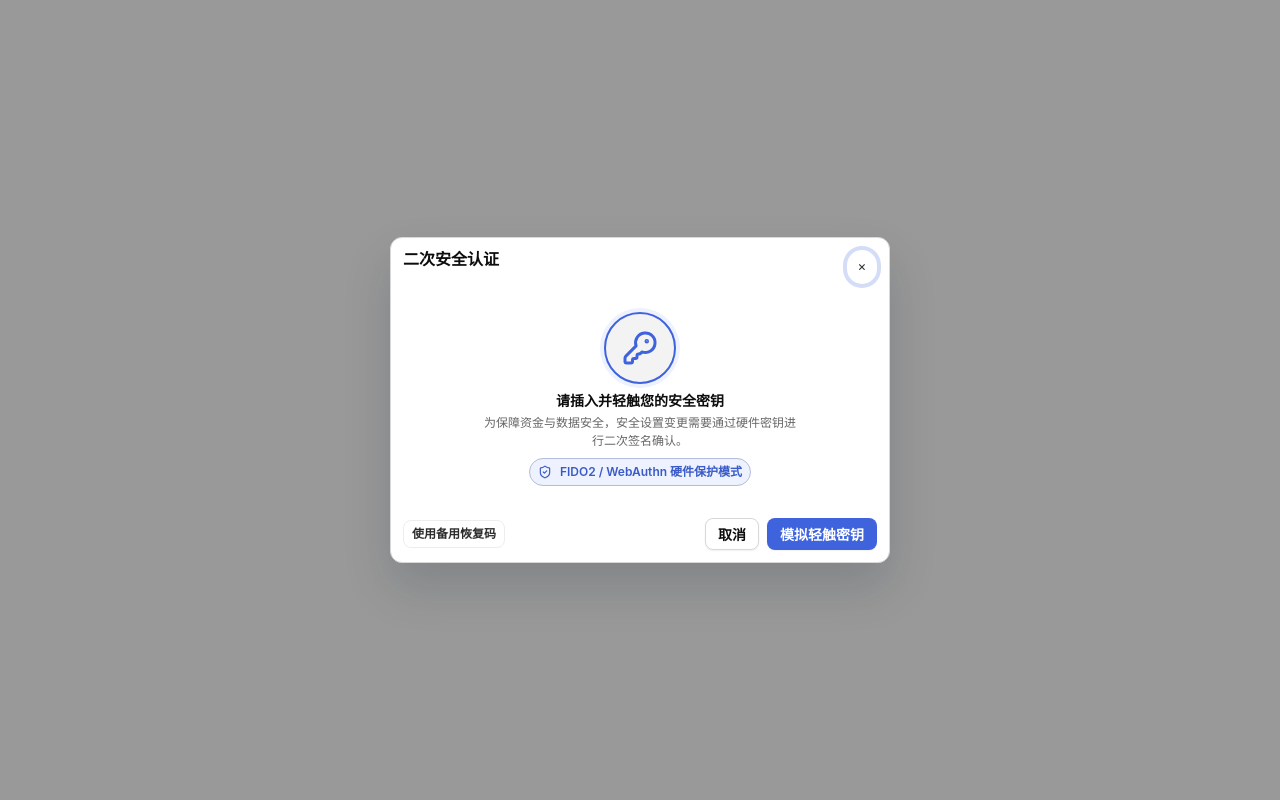
Test: StepUpSecurityModal › supports switching to backup code mode and validating codes
Click the button "使用备用恢复码": x=454, y=534 [403,520,505,548]
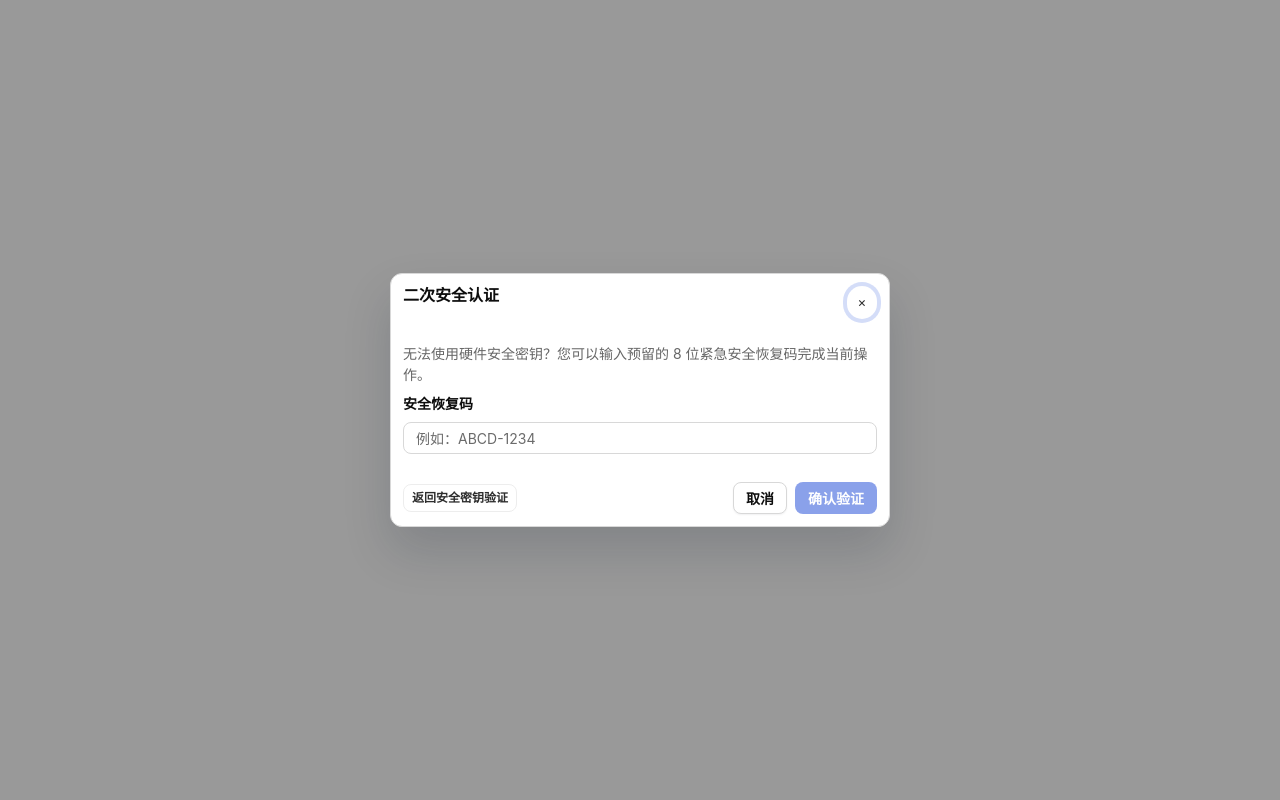
Expected: the text "无法使用硬件安全密钥？" is shown, [403,346,868,384]
Expected: the button with test id "stepup-submit-backup" is disabled, [795,482,877,514]
Type a code that is too short
In the field labelled "安全恢复码": x=640, y=438 [403,422,877,454], type "123"
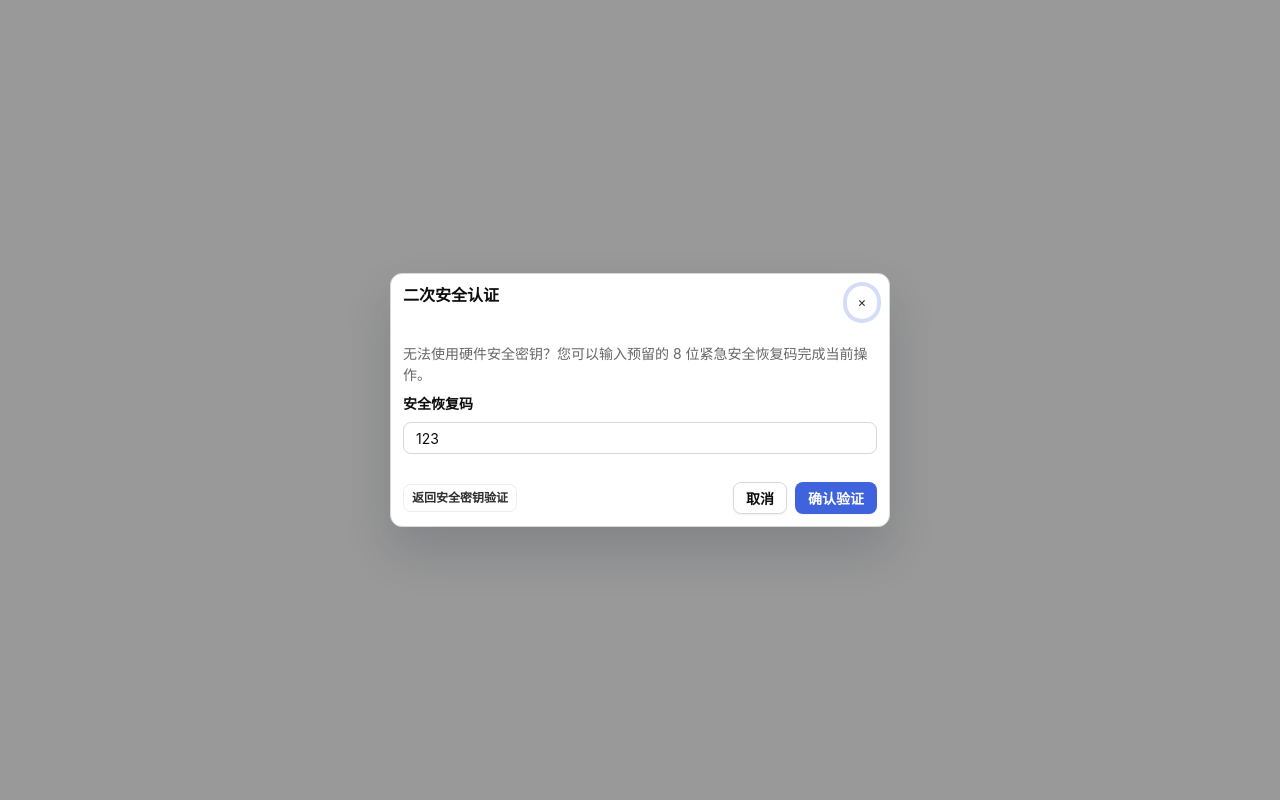
Click the button with test id "stepup-submit-backup": x=836, y=498 [795,482,877,514]
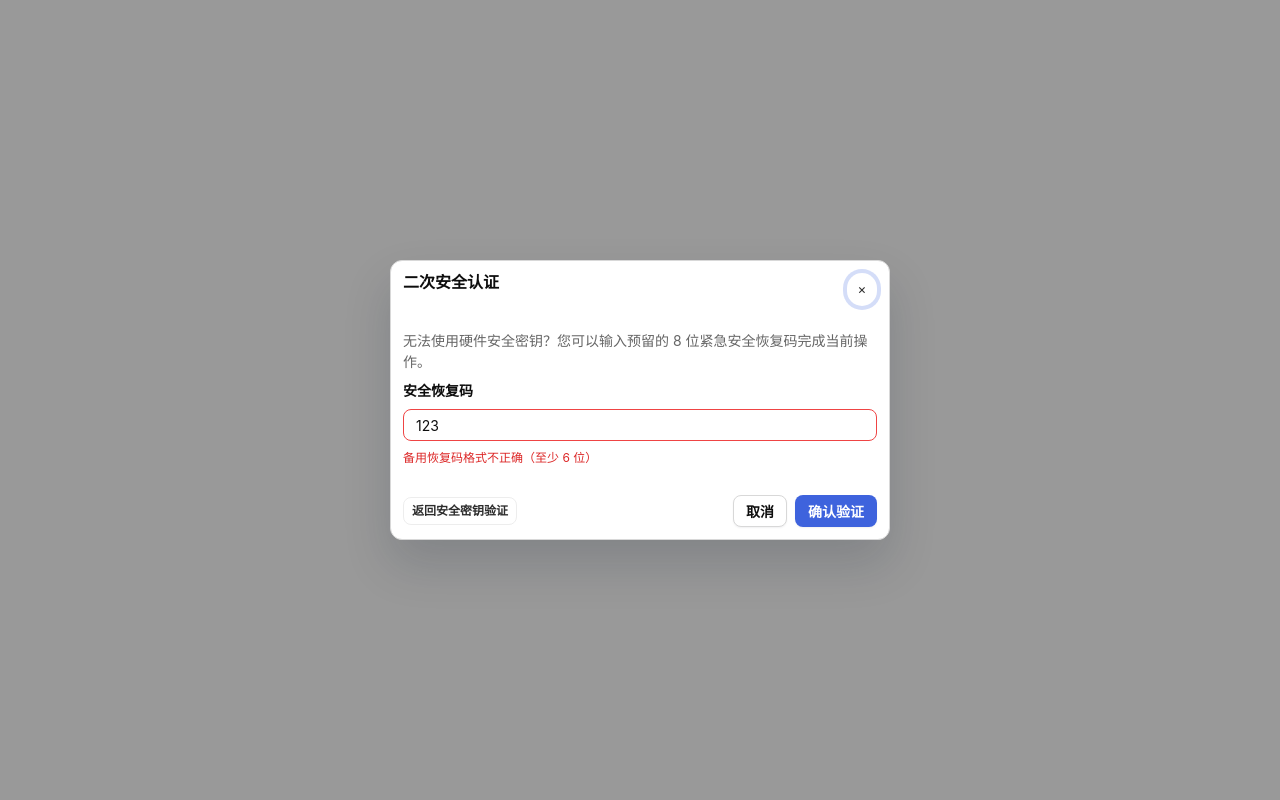
Expected: the text "备用恢复码格式不正确" is shown, [403,450,597,466]
Enter a valid backup code
Replace the text in the field labelled "安全恢复码" with "RECOV-987654": x=640, y=426 [403,410,877,442]
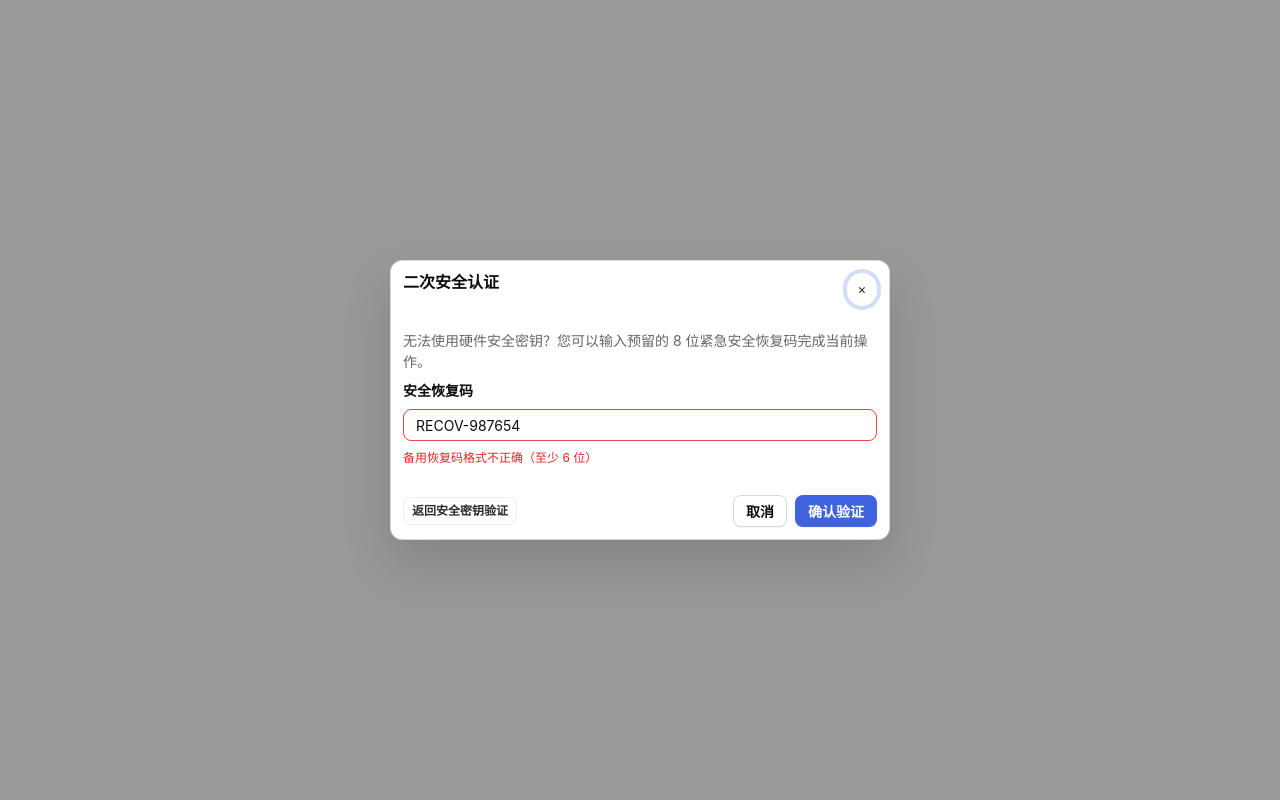
Click the button with test id "stepup-submit-backup": x=836, y=512 [795,496,877,528]
Wait 150 ms
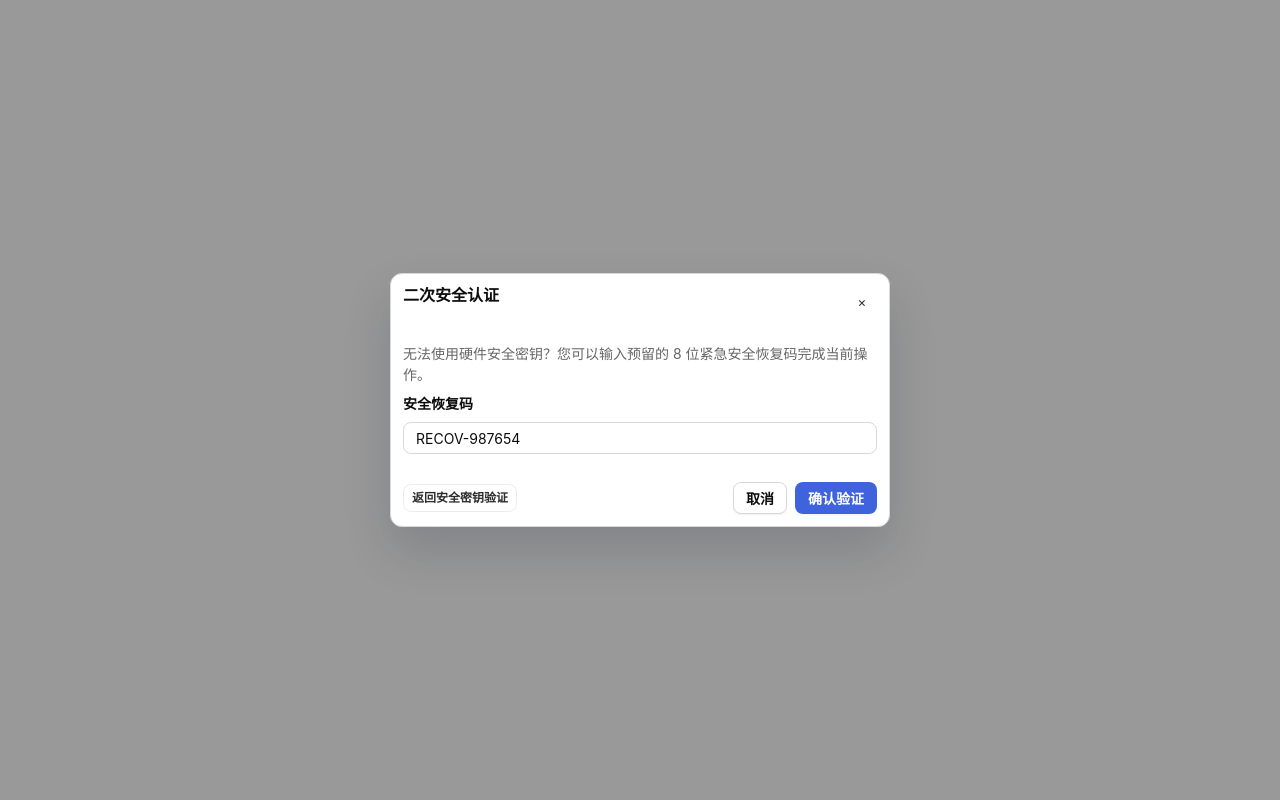
Click the button "返回安全密钥验证": x=460, y=498 [403,484,517,512]
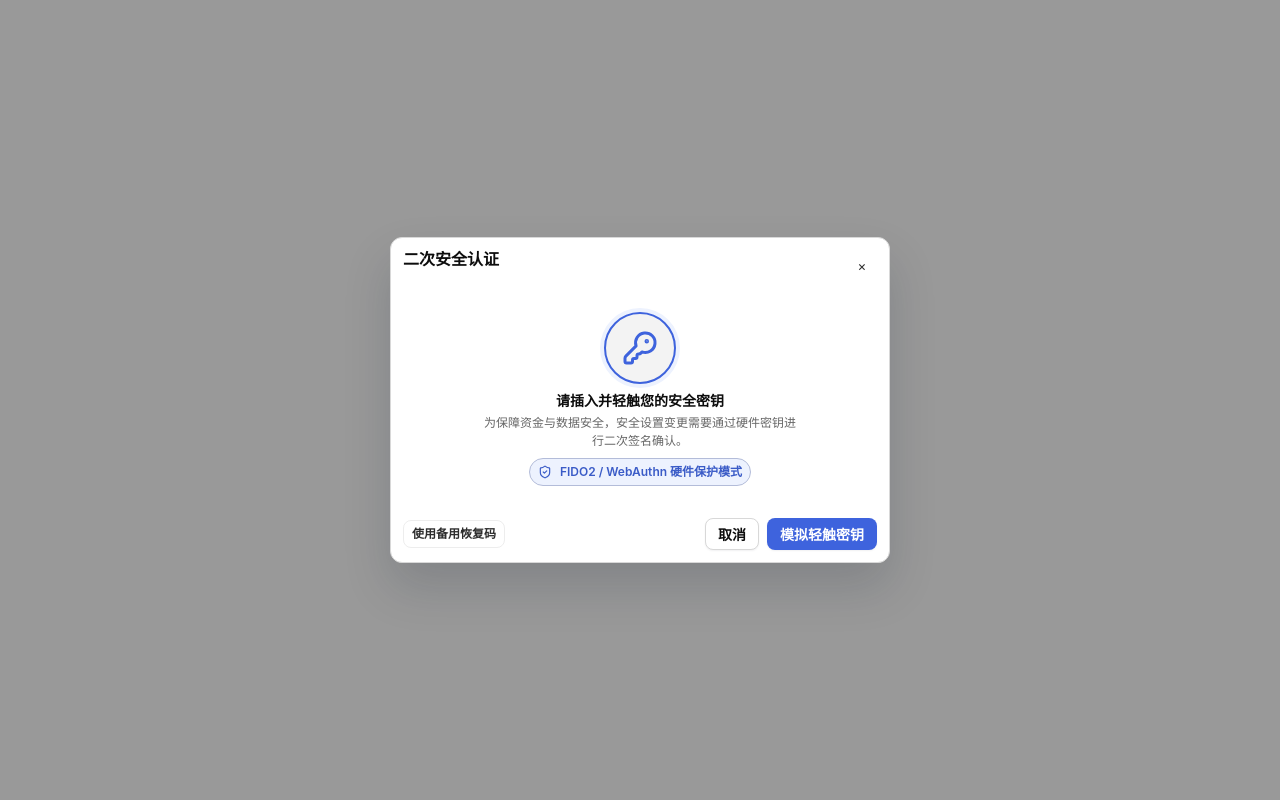
Expected: the button with test id "stepup-touch-btn" is shown, [767,518,877,550]
